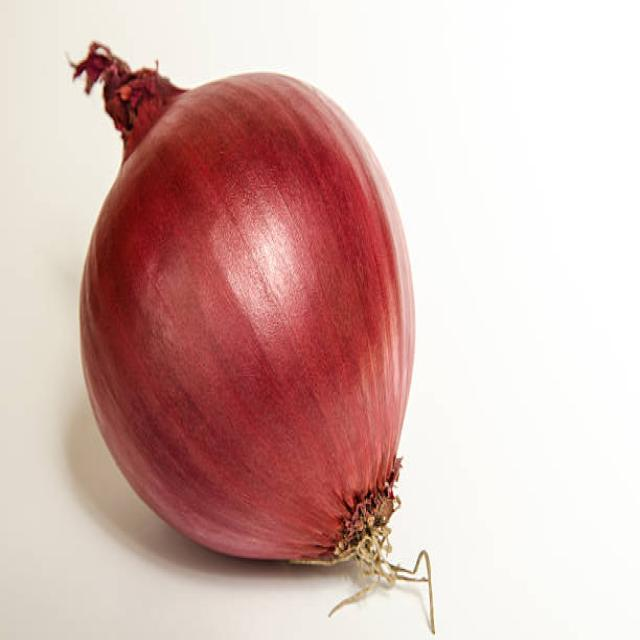onion: (69, 65, 418, 599)
